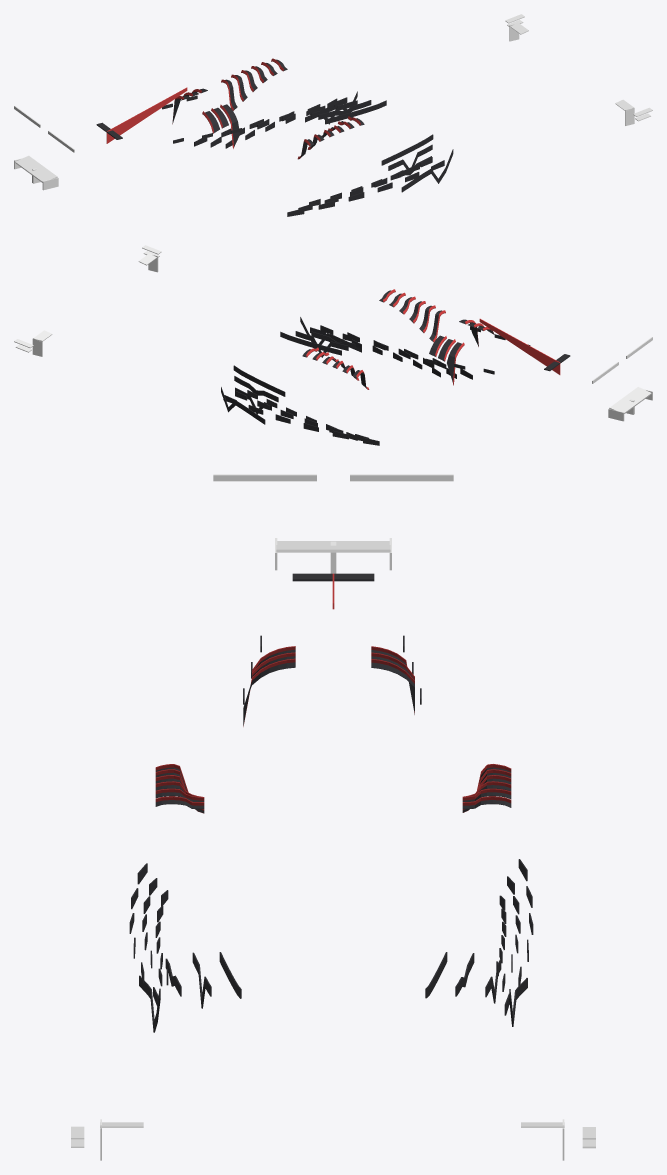
The model's file is f1-car-mejoras-2025.glb.
3 renders of one model, top to bottom at view 1: azimuth 30°, elevation 25°; view 2: azimuth 150°, elevation 25°; view 3: azimuth 270°, elevation 25°, orthographic. The views are drawn at different scales.
Parts seen in each view (by area): view 1: mejora_suelo_2, mejora_suelo_1, mejora_refrigeracion_1, mejora_alerones_3, mejora_eficiencia_1, mejora_refrigeracion_3, mejora_refrigeracion_2, mejora_suelo_3, mejora_alerones_2, mejora_alerones_1; view 2: mejora_suelo_2, mejora_suelo_1, mejora_refrigeracion_1, mejora_alerones_3, mejora_refrigeracion_3, mejora_refrigeracion_2, mejora_eficiencia_1, mejora_suelo_3, mejora_alerones_2, mejora_alerones_1; view 3: mejora_refrigeracion_3, mejora_suelo_1, mejora_suelo_2, mejora_alerones_1, mejora_refrigeracion_1, mejora_alerones_3, mejora_refrigeracion_2, mejora_alerones_2.
Part boxes in pixels (x1,y1,x2,y2): mejora_suelo_2: (210,97,433,211); mejora_suelo_1: (194,91,453,216); mejora_refrigeracion_1: (192,74,324,159); mejora_alerones_3: (14,155,58,190); mejora_eficiencia_1: (106,87,187,143); mejora_refrigeracion_3: (172,58,364,133); mejora_refrigeracion_2: (181,66,344,137); mejora_suelo_3: (225,98,419,205); mejora_alerones_2: (507,19,650,125); mejora_alerones_1: (14,14,652,152); mejora_suelo_2: (233,325,456,440); mejora_suelo_1: (221,317,472,445); mejora_refrigeracion_1: (342,305,478,389); mejora_alerones_3: (608,387,652,421); mejora_refrigeracion_3: (302,289,494,385); mejora_refrigeracion_2: (322,296,484,368); mejora_eficiencia_1: (479,318,560,374); mejora_suelo_3: (247,334,440,440); mejora_alerones_2: (15,251,159,356); mejora_alerones_1: (14,245,652,383); mejora_refrigeracion_3: (155,646,511,809); mejora_suelo_1: (129,859,533,1032); mejora_suelo_2: (142,876,520,1008); mejora_alerones_1: (71,474,595,1139); mejora_refrigeracion_1: (155,658,511,813); mejora_alerones_3: (275,538,391,573); mejora_refrigeracion_2: (155,652,511,797); mejora_alerones_2: (71,1119,595,1160).
Bounding box in the file's own units: 4.73 × 0.9219 × 1.93.
